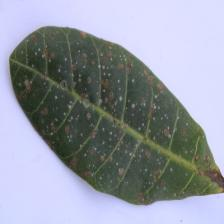red rust: (9, 25, 224, 206)
